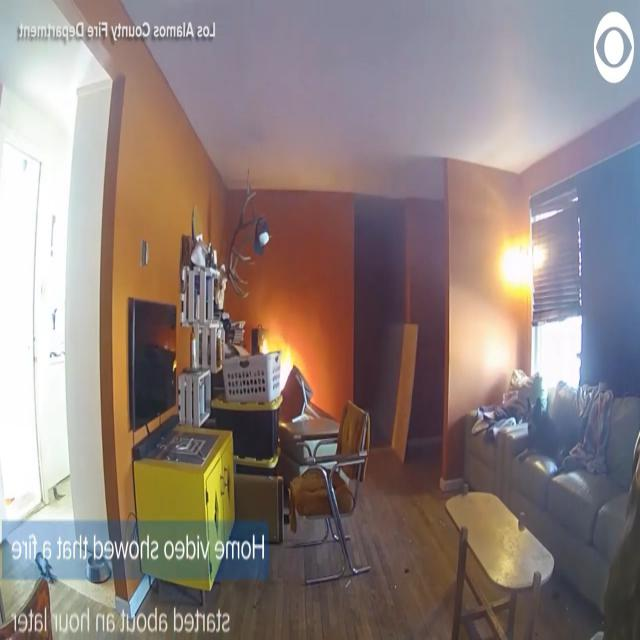fire: (262, 329, 298, 395)
